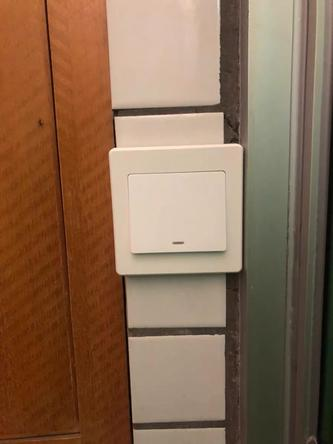switch: (126, 165, 238, 263)
